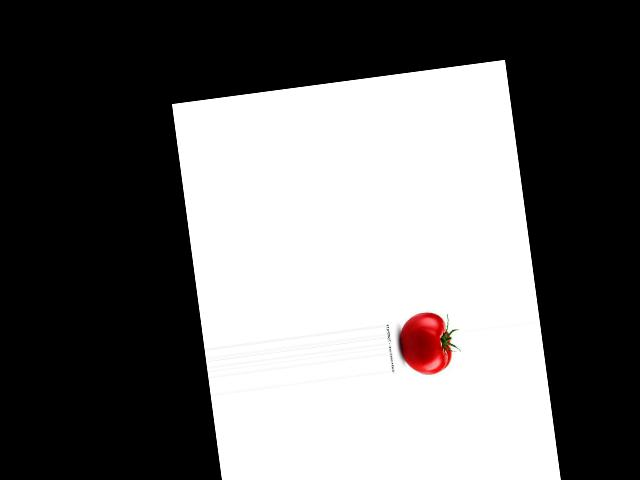tomato: (397, 309, 453, 377)
